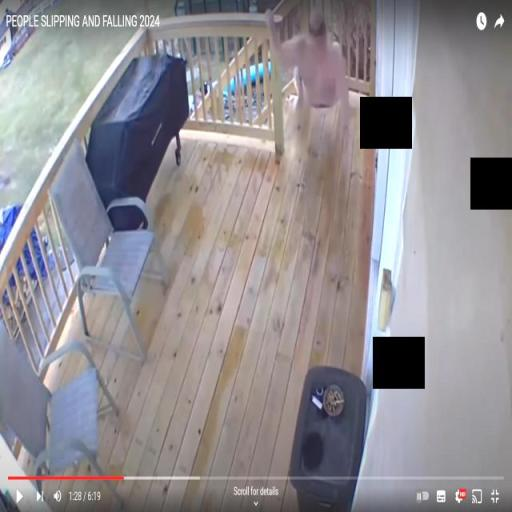Fall: (262, 2, 352, 133)
